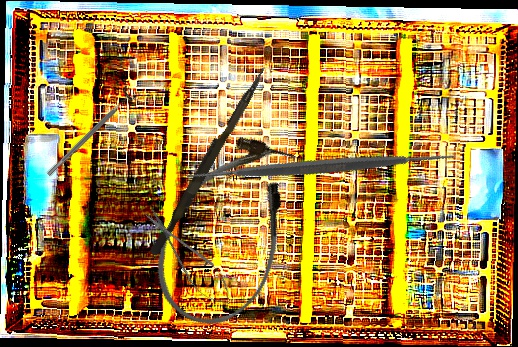Cannula: (135, 119, 320, 343)
Fixation Ring: (41, 84, 139, 182)
Micro Scissor: (136, 200, 241, 315)
Pusher: (149, 61, 268, 260)
Spatula Surgical: (173, 19, 467, 313)
